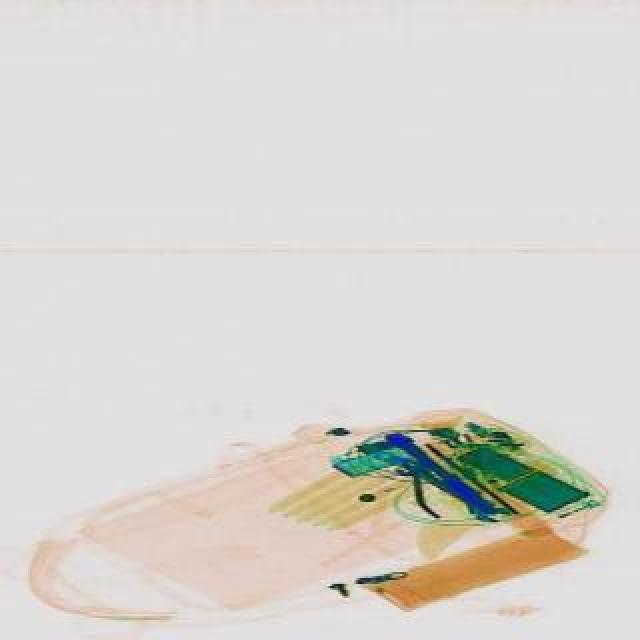scissors: (378, 420, 510, 532)
wrench: (388, 440, 476, 524)
